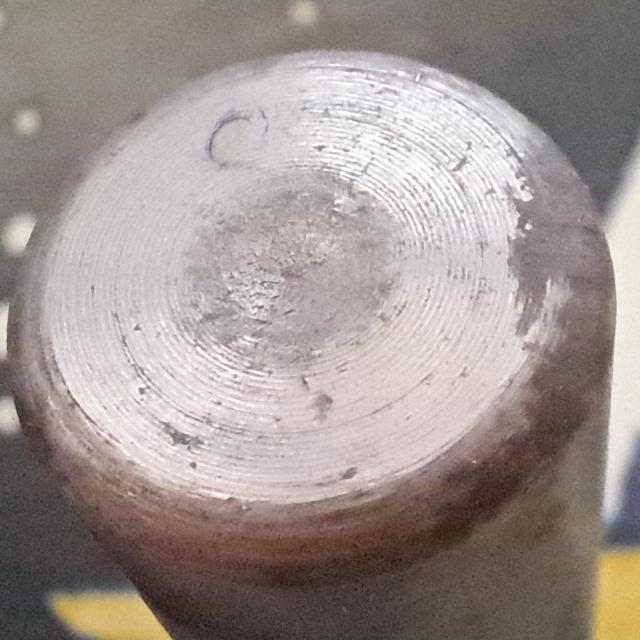defect: (199, 95, 280, 175)
planson: (5, 34, 618, 640)
